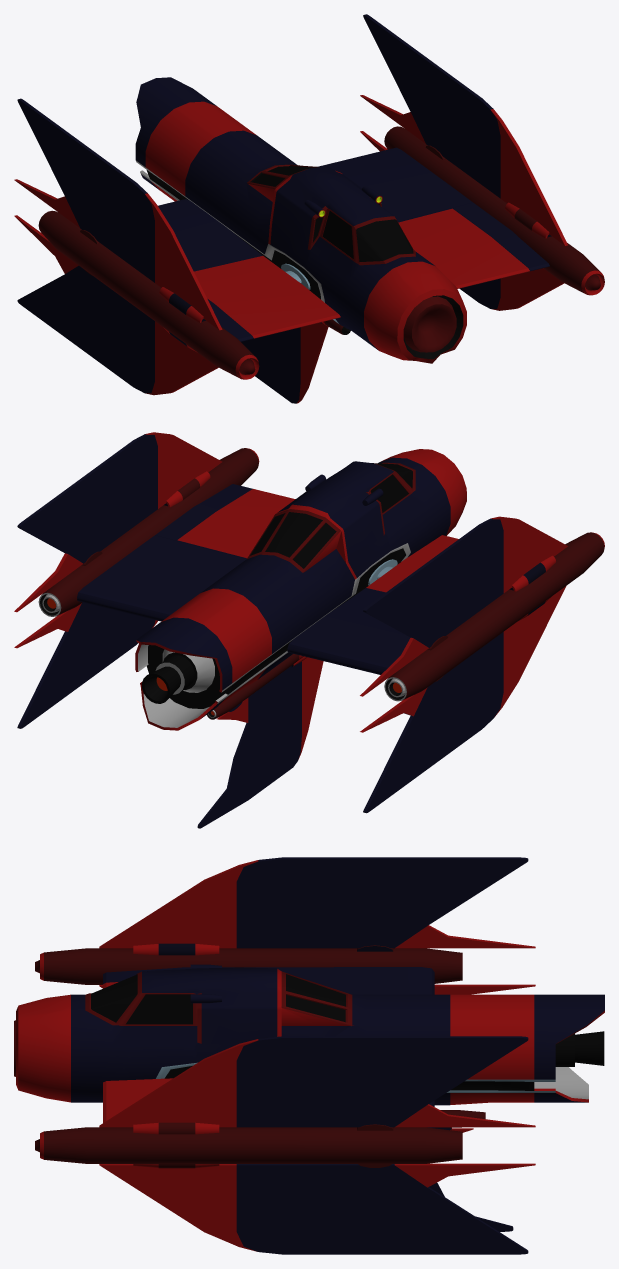
Rendered from ship03textured.FBX.
3 renders of one model, top to bottom at view 1: azimuth 30°, elevation 25°; view 2: azimuth 150°, elevation 25°; view 3: azimuth 270°, elevation 25°, orthographic. The views are drawn at different scales.
Parts seen in each view (by area): view 1: body, rightTopWing, leftTopWing, leftWing, rightBottomFin, rightWing, rightRocket, leftRocket, bottomFin, leftBottomFin; view 2: body, leftWing, leftTopWing, rightTopWing, rightBottomFin, bottomFin, rightRocket, rightWing, leftBottomFin, leftRocket, bottomRocket; view 3: body, leftTopWing, rightTopWing, leftBottomFin, leftRocket, rightRocket, rightWing, leftWing, rightBottomFin.
Part boxes in pixels (x1,y1,x2,y2): body: (135,77,466,363); rightTopWing: (14,98,222,330); leftTopWing: (360,14,567,245); leftWing: (317,147,549,288); rightBottomFin: (14,215,218,395); rightWing: (158,199,340,341); rightRocket: (38,210,259,379); leftRocket: (384,126,604,295); bottomFin: (241,322,328,403); leftBottomFin: (360,131,564,310); body: (135,449,466,730); leftWing: (77,484,295,621); leftTopWing: (14,432,222,612); rightTopWing: (360,516,567,696); rightBottomFin: (360,586,566,813); bottomFin: (197,657,323,828); rightRocket: (384,532,604,701); rightWing: (287,535,458,674); leftBottomFin: (14,602,157,728); leftRocket: (38,448,259,616); bottomRocket: (207,654,307,719); body: (14,967,604,1105); leftTopWing: (99,1036,535,1134); rightTopWing: (99,857,535,955); leftBottomFin: (99,1163,535,1254); leftRocket: (35,1124,462,1167); rightRocket: (35,945,462,984); rightWing: (103,967,434,994); leftWing: (103,1078,434,1128); rightBottomFin: (99,984,535,994).
Size of the model in its own units: 301 by 209 by 386.
